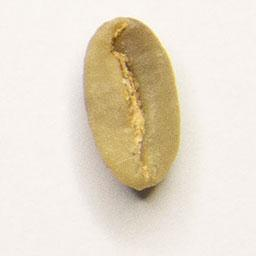longberry: (82, 14, 184, 193)
